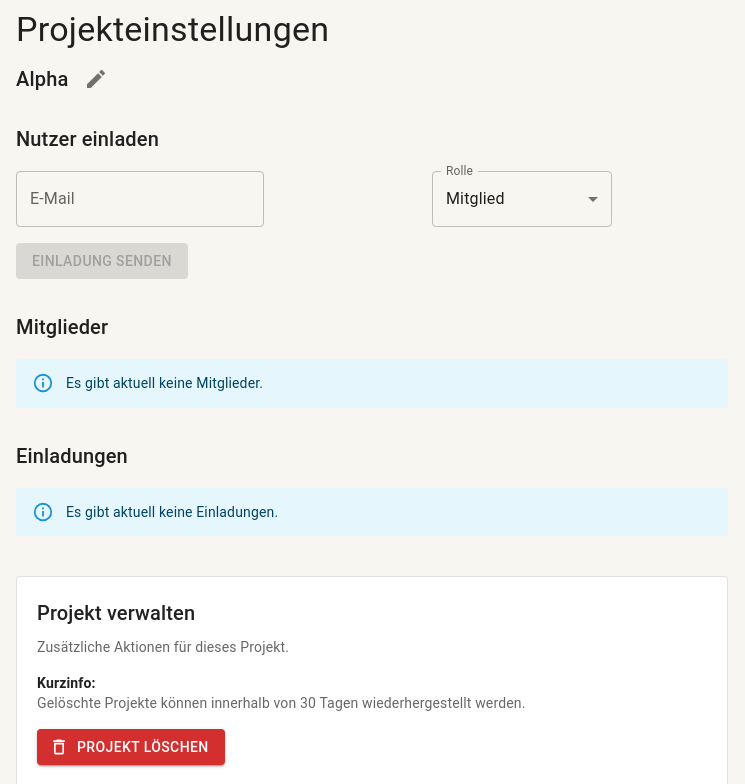
Test case: ProjectSettingsPage › shows project name in view mode and allows switching to edit mode
Check: the heading "Alpha" is shown, box [16,63,68,95]
Check: the button "Speichern" is not shown
What coordinates should you click on to do the following:
click the button named "Projekt umbenennen"
I would click on:
 (96, 79)
Its box is [76,59,116,99].
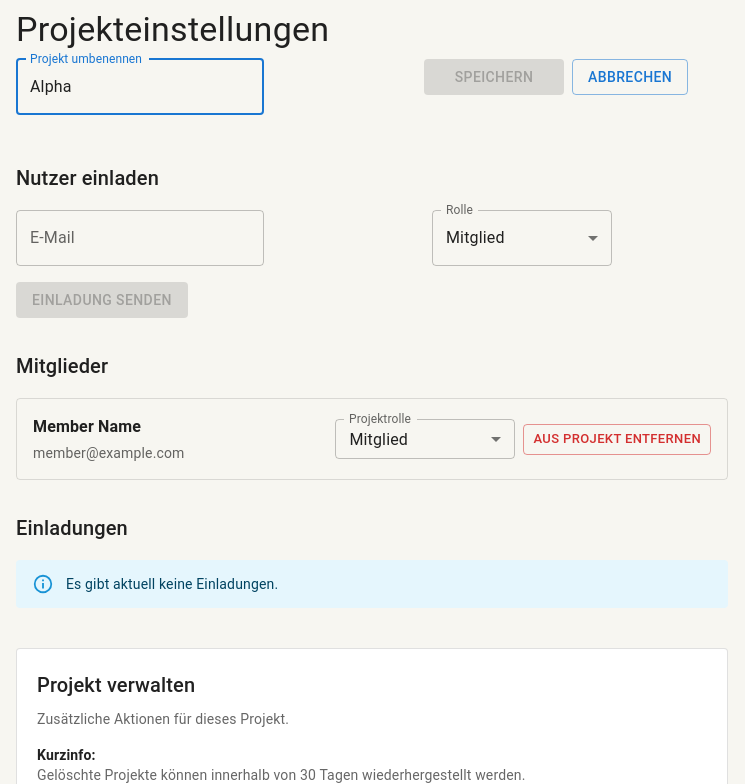
Check: the field labelled "Projekt umbenennen" is shown, box [16,59,264,115]
Check: the button "Abbrechen" is shown, box [572,59,688,96]
